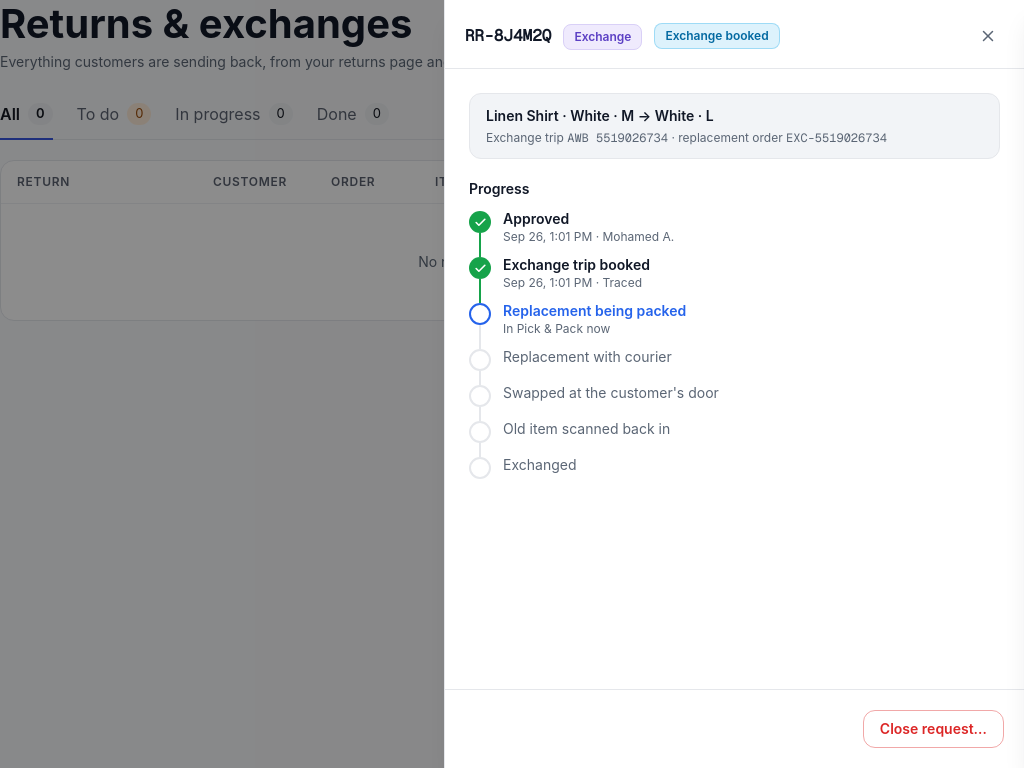
it: Drawer — X5 progress › closing an exchange offers "Exchange failed" and posts it
Step 1. Click the button "Close request…" → click(933, 729), box [863,710,1004,748]
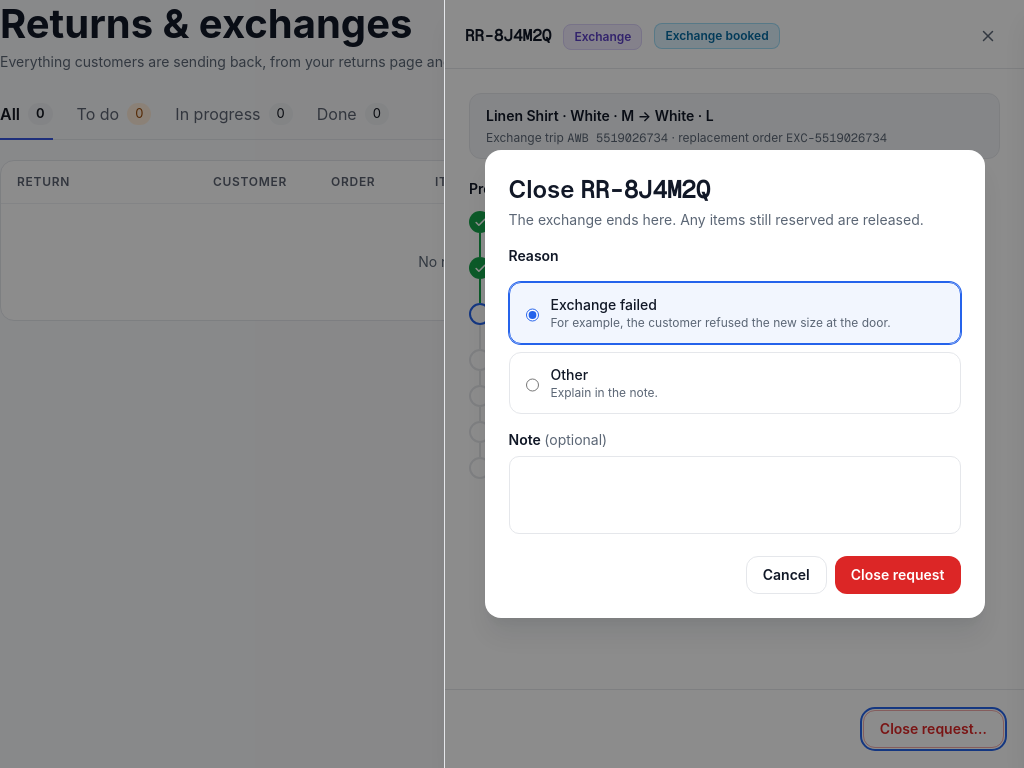
Result: the radio button labelled "Exchange failed" is checked at [526,299,538,331]
Step 2. Click the button "Close request" → click(898, 575), box [835,556,961,594]
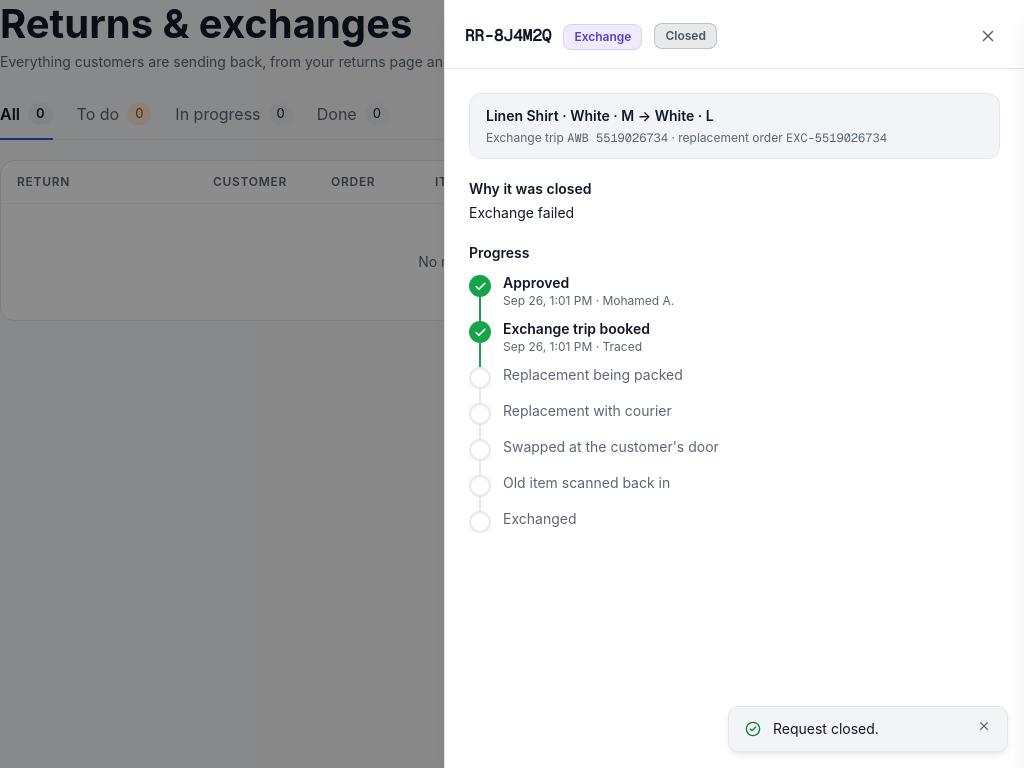
Result: the element with test id "request-close-reason" shows "Exchange failed" at [469,204,574,221]
